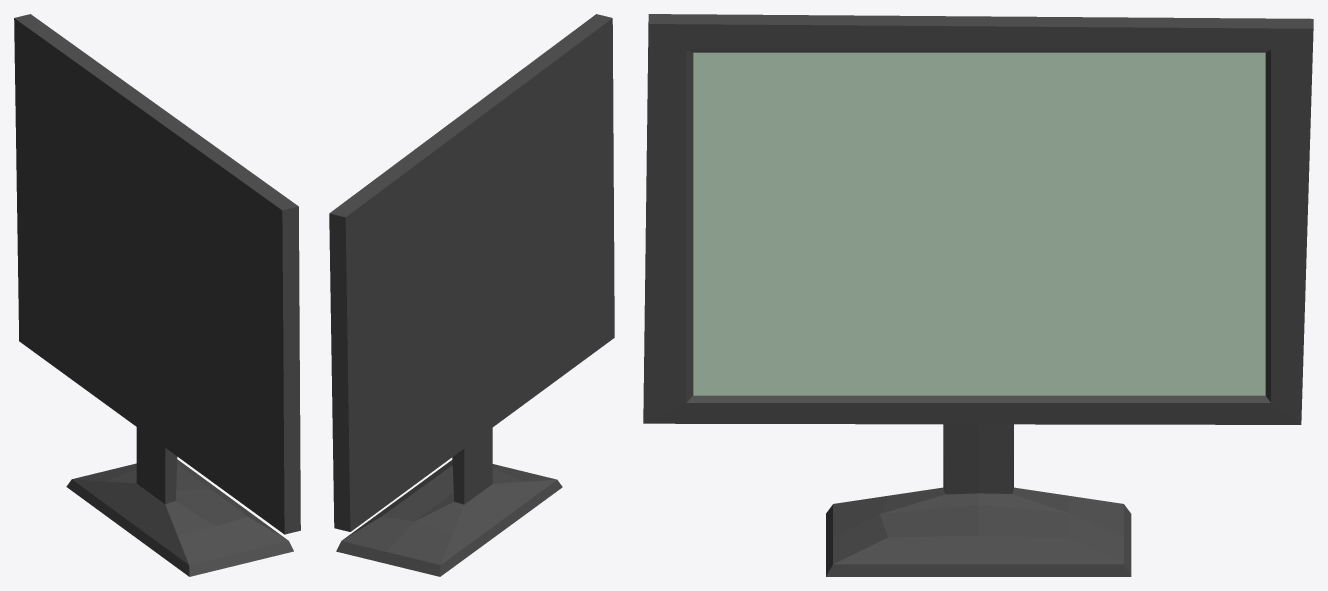
The model's file is computer.fbx.
3 views of the same model, side by side, from view 1: azimuth 30°, elevation 25°; view 2: azimuth 150°, elevation 25°; view 3: azimuth 270°, elevation 25° (orthographic). The views are drawn at different scales.
Visible parts, largest first — view 1: 立方体.001; view 2: 立方体.001; view 3: 立方体.001.
Part boxes in pixels (bbox=[...]): 立方体.001: bbox=[14, 14, 300, 576]; 立方体.001: bbox=[329, 14, 614, 576]; 立方体.001: bbox=[643, 14, 1313, 576].
Bounding box in the file's own units: 117 × 441 × 523.
